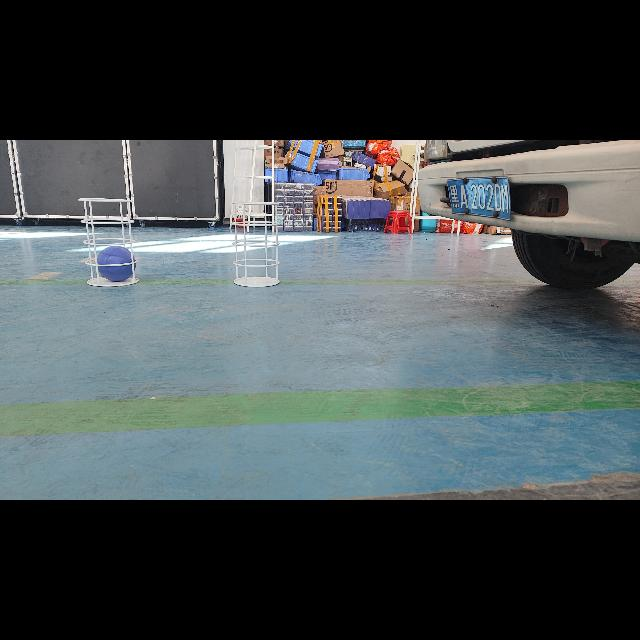B: (96, 245, 136, 281)
S: (78, 197, 146, 291), (226, 202, 284, 290)
